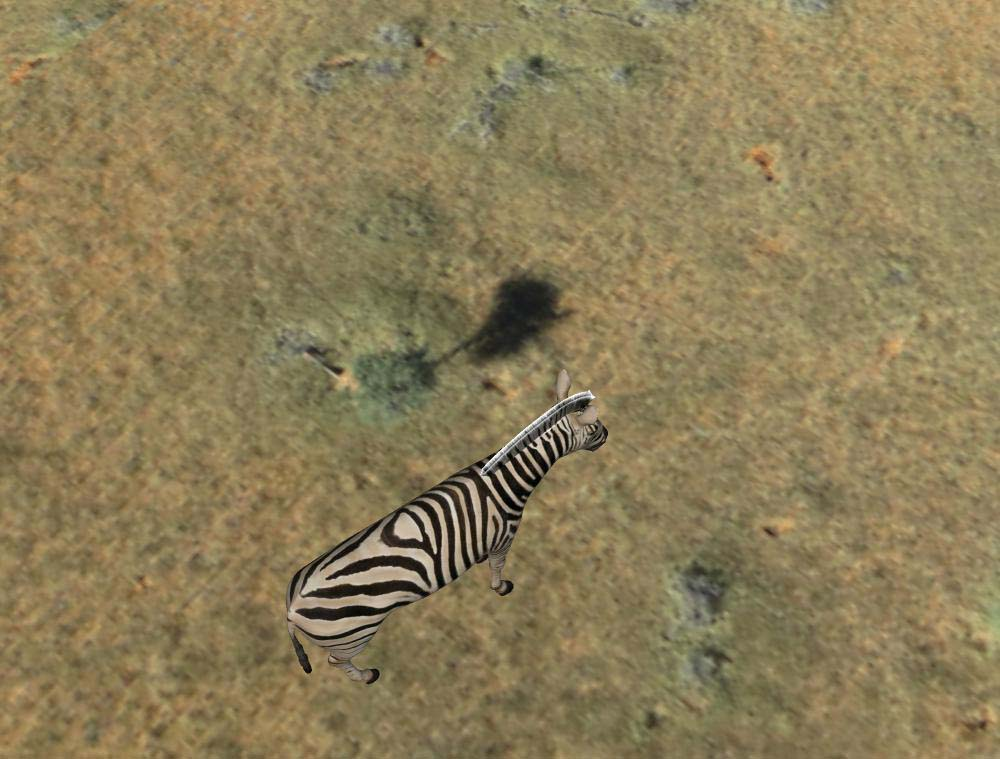zebra: (279, 370, 610, 691)
